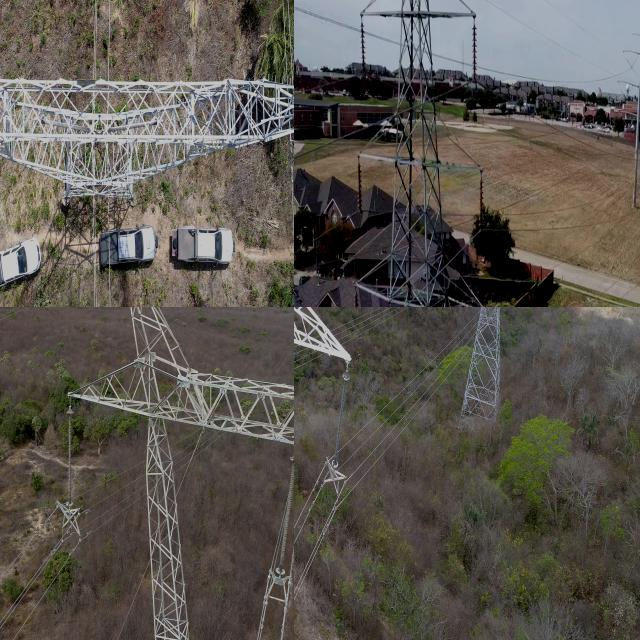杆塔: (64, 307, 294, 640), (0, 46, 294, 236), (346, 0, 497, 307), (456, 307, 534, 427)
正常绝缘子: (266, 436, 294, 602), (61, 396, 82, 536), (331, 350, 352, 486), (473, 162, 491, 260), (354, 13, 373, 95), (464, 14, 481, 102), (354, 148, 368, 216), (348, 281, 366, 307)
